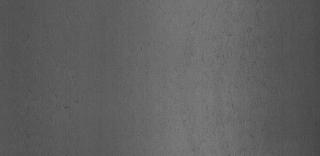silk spot: (183, 22, 253, 94), (54, 76, 96, 122)
